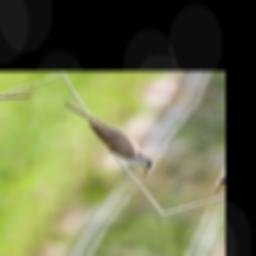Cuckoo: (32, 100, 178, 178)
